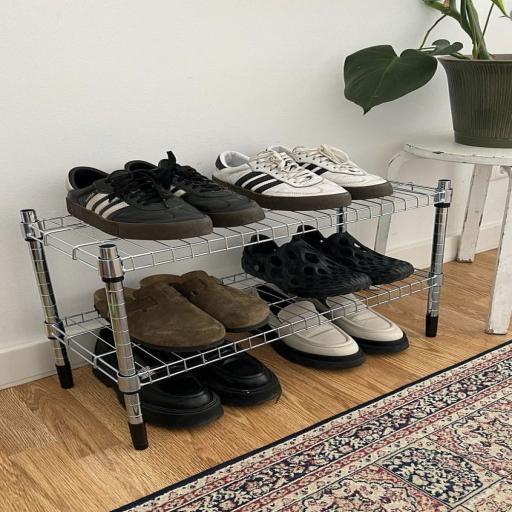road: (33, 182, 445, 271), (133, 270, 435, 385)
